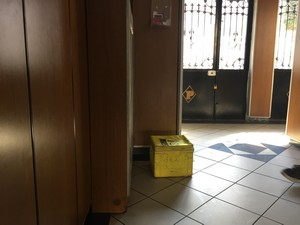cube: (149, 134, 195, 178)
